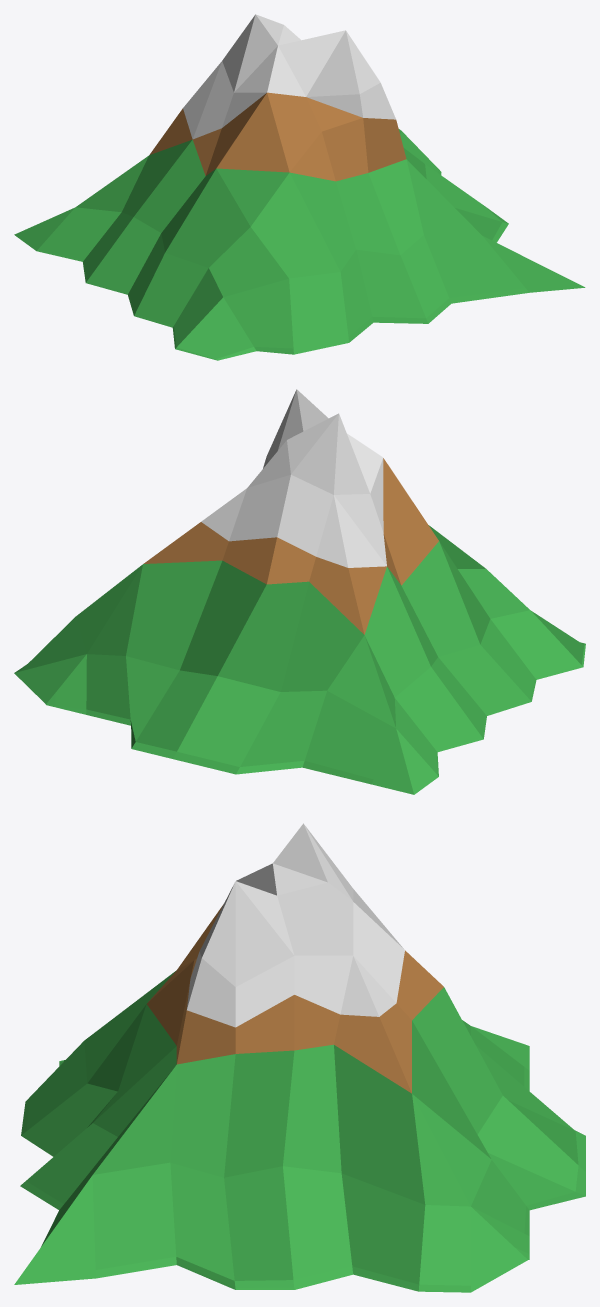
File: Mountain001.fbx
3 views of the same model, one above another, from view 1: azimuth 30°, elevation 25°; view 2: azimuth 150°, elevation 25°; view 3: azimuth 270°, elevation 25° (orthographic). The views are drawn at different scales.
Parts seen in each view (by area): view 1: Cube; view 2: Cube; view 3: Cube.
Part boxes in pixels (left/top/right/bottom): Cube: left=14, top=14, right=585, bottom=360; Cube: left=14, top=389, right=585, bottom=794; Cube: left=14, top=823, right=585, bottom=1292.
Bounding box in the file's own units: 248 × 151 × 243.
